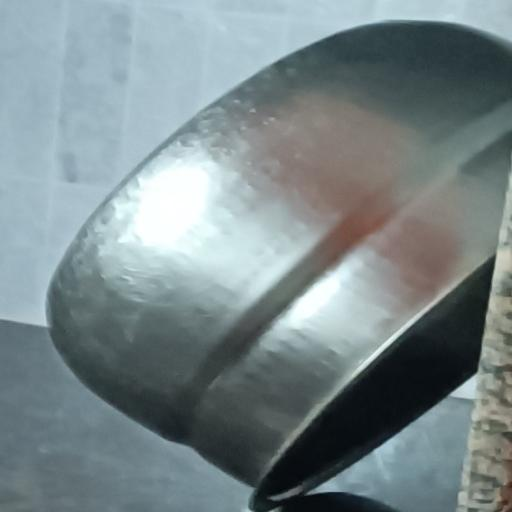vessel: (47, 21, 511, 511)
